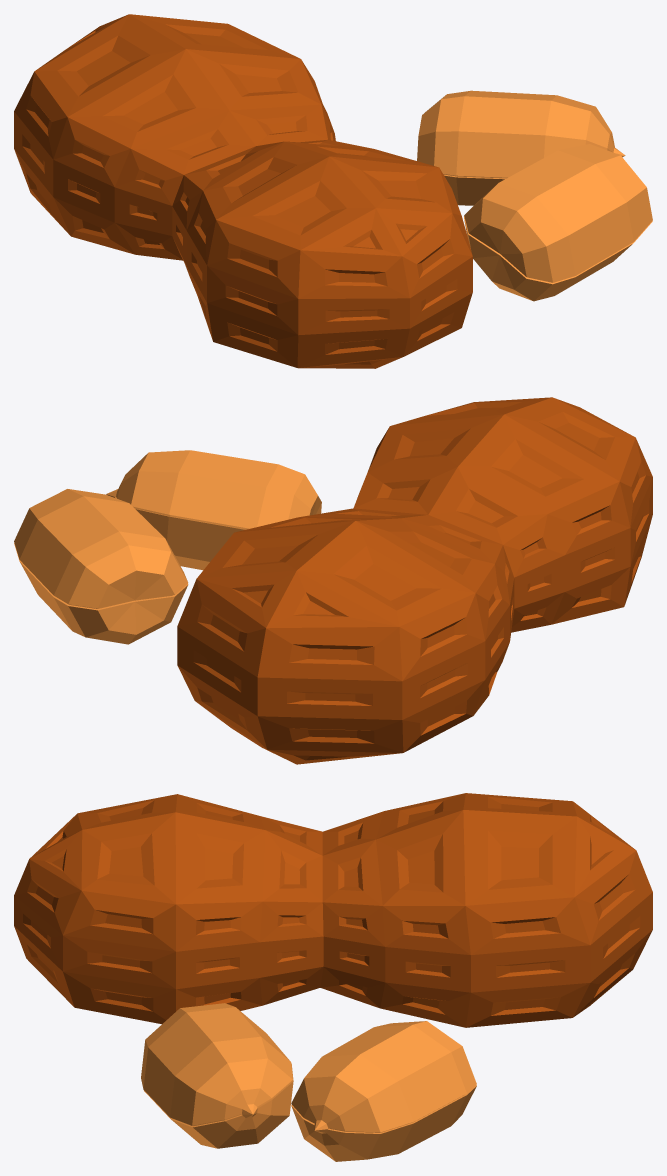
File: Peanut_01.fbx
3 renders of one model, top to bottom at view 1: azimuth 30°, elevation 25°; view 2: azimuth 150°, elevation 25°; view 3: azimuth 270°, elevation 25°, orthographic. The views are drawn at different scales.
Visible parts, largest first — view 1: Circle.004_Circle.013; view 2: Circle.004_Circle.013; view 3: Circle.004_Circle.013.
Boxes of the visible parts, x1,y1,x2,y2 form: Circle.004_Circle.013: [14, 14, 652, 368]; Circle.004_Circle.013: [14, 397, 652, 764]; Circle.004_Circle.013: [14, 793, 652, 1161].
Bounding box in the file's own units: 16.27 × 6.13 × 17.97.
